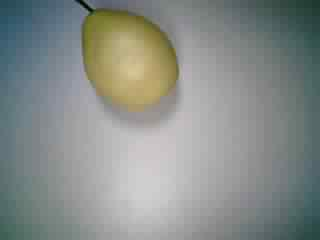pear: (44, 1, 187, 119)
